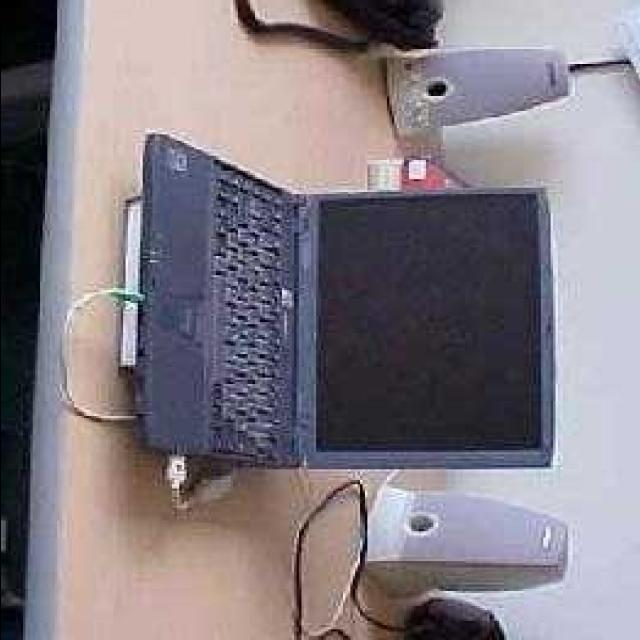laptop: (145, 184, 548, 464)
